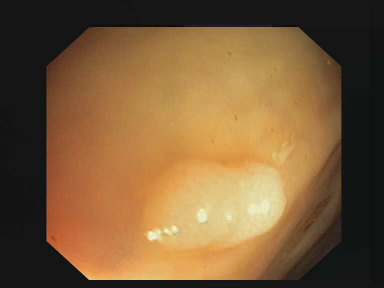polyp: (144, 159, 285, 247)
